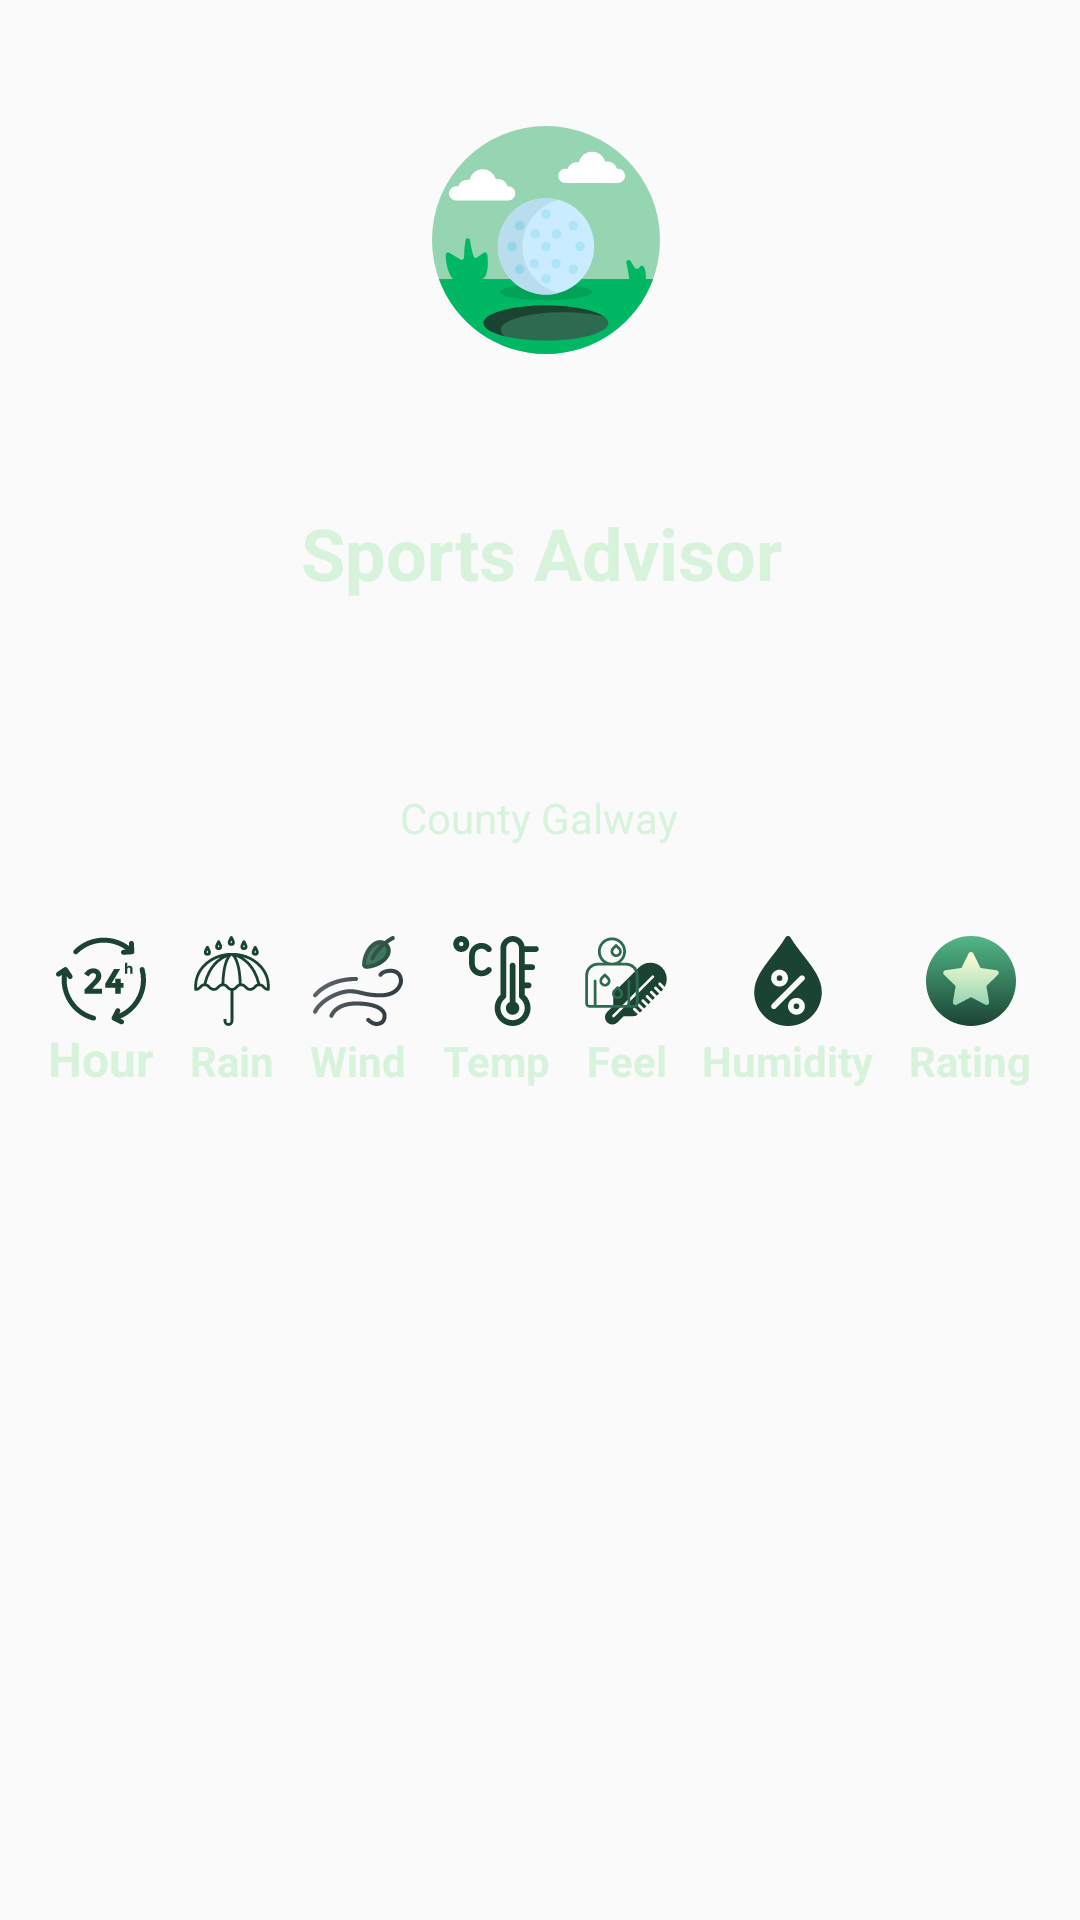

Point at icon controls on the screen. Image size 1080×1920, points as point (x, y).
golf ball: point (546, 240)
star: point (971, 981)
